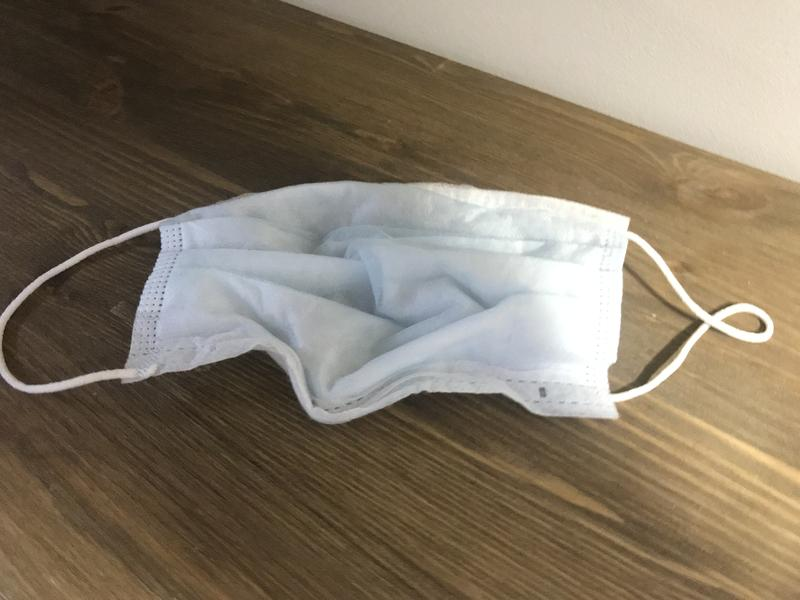medical_mask: (1, 176, 775, 421)
